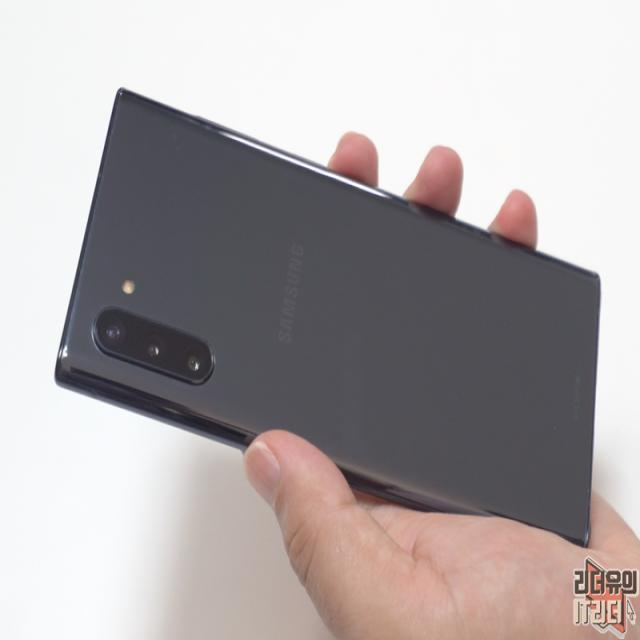lens: (82, 304, 226, 396)
phone: (51, 81, 606, 549)
